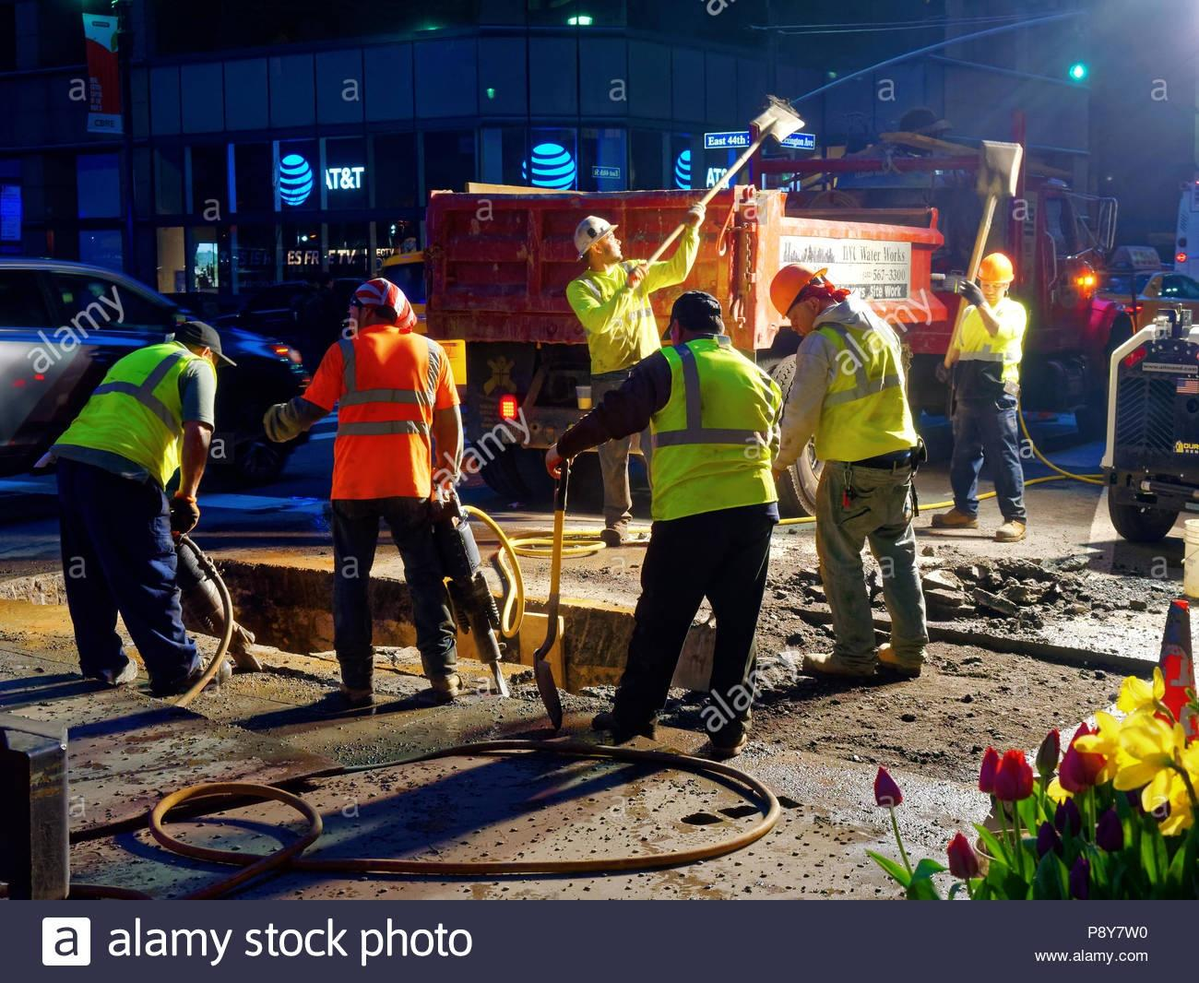Helmet: (772, 261, 830, 334), (574, 215, 621, 263), (977, 252, 1015, 302)
NoHelmet: (660, 293, 723, 341)
Vest: (651, 338, 776, 507), (325, 325, 440, 500), (73, 346, 211, 480), (812, 314, 912, 465)
